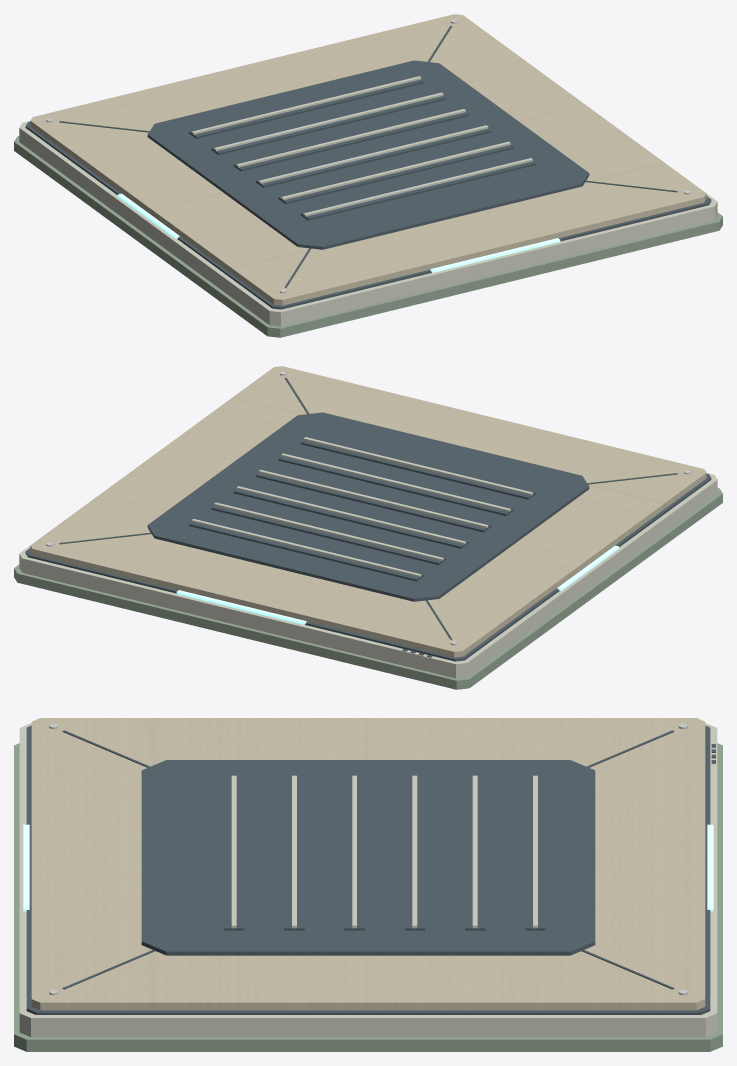
The model's file is m01-metal-service-vent.glb.
The picture shows the model from 3 angles, top to bottom: view 1: azimuth 30°, elevation 25°; view 2: azimuth 150°, elevation 25°; view 3: azimuth 270°, elevation 25°; orthographic projection. The views are drawn at different scales.
Parts seen in each view (by area): view 1: service-vent/003, service-vent/020, service-vent/001, service-vent/000, service-vent/002, service-vent/023, service-vent/031, service-vent/025, service-vent/021, service-vent/029, service-vent/027, service-vent/022 (+6 smaller); view 2: service-vent/003, service-vent/020, service-vent/001, service-vent/000, service-vent/002, service-vent/023, service-vent/025, service-vent/029, service-vent/031, service-vent/021, service-vent/027, service-vent/026 (+6 smaller); view 3: service-vent/003, service-vent/020, service-vent/001, service-vent/000, service-vent/002, service-vent/025, service-vent/023, service-vent/027, service-vent/031, service-vent/021, service-vent/029, service-vent/024 (+7 smaller).
Part boxes in pixels (x1,y1,x2,y2): service-vent/003: [30, 14, 706, 305]; service-vent/020: [147, 60, 589, 249]; service-vent/001: [19, 121, 717, 326]; service-vent/000: [14, 136, 722, 337]; service-vent/002: [25, 121, 711, 309]; service-vent/023: [211, 92, 446, 154]; service-vent/031: [300, 157, 535, 220]; service-vent/025: [233, 108, 468, 171]; service-vent/021: [189, 76, 424, 138]; service-vent/029: [278, 141, 513, 204]; service-vent/027: [256, 125, 491, 187]; service-vent/022: [191, 76, 421, 134]; service-vent/003: [30, 366, 706, 657]; service-vent/020: [147, 412, 589, 601]; service-vent/001: [19, 473, 717, 678]; service-vent/000: [14, 488, 722, 689]; service-vent/002: [25, 473, 711, 661]; service-vent/023: [211, 502, 446, 564]; service-vent/025: [233, 486, 468, 548]; service-vent/029: [278, 453, 513, 515]; service-vent/031: [300, 436, 535, 499]; service-vent/021: [189, 518, 424, 581]; service-vent/027: [256, 469, 491, 532]; service-vent/026: [236, 486, 465, 544]; service-vent/003: [31, 718, 705, 1010]; service-vent/020: [141, 760, 595, 955]; service-vent/001: [19, 723, 717, 1037]; service-vent/000: [14, 743, 722, 1051]; service-vent/002: [26, 725, 710, 1014]; service-vent/025: [404, 778, 425, 930]; service-vent/023: [465, 778, 485, 930]; service-vent/027: [344, 778, 364, 930]; service-vent/031: [224, 778, 244, 930]; service-vent/021: [525, 778, 545, 930]; service-vent/029: [284, 778, 304, 930]; service-vent/024: [472, 775, 477, 928].
Size of the model in its own units: 1 by 0.08 by 1.
Materials: 6 (1 with a texture image).
